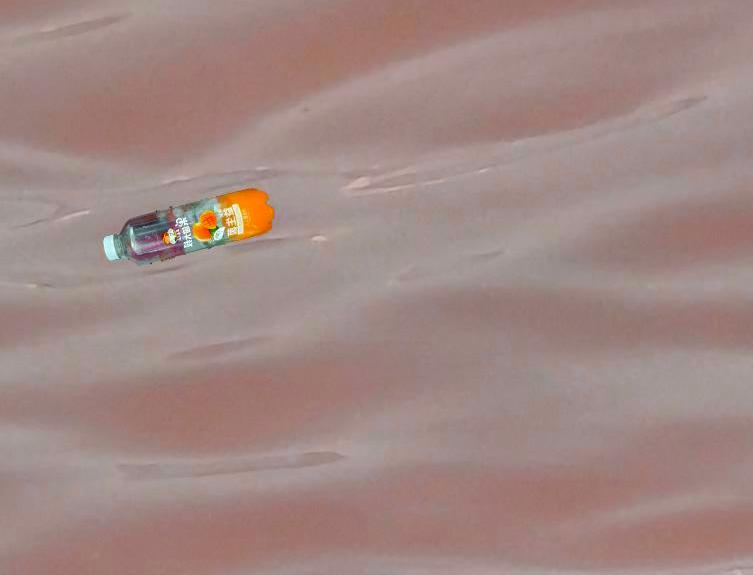Plastic: (98, 188, 272, 269)
